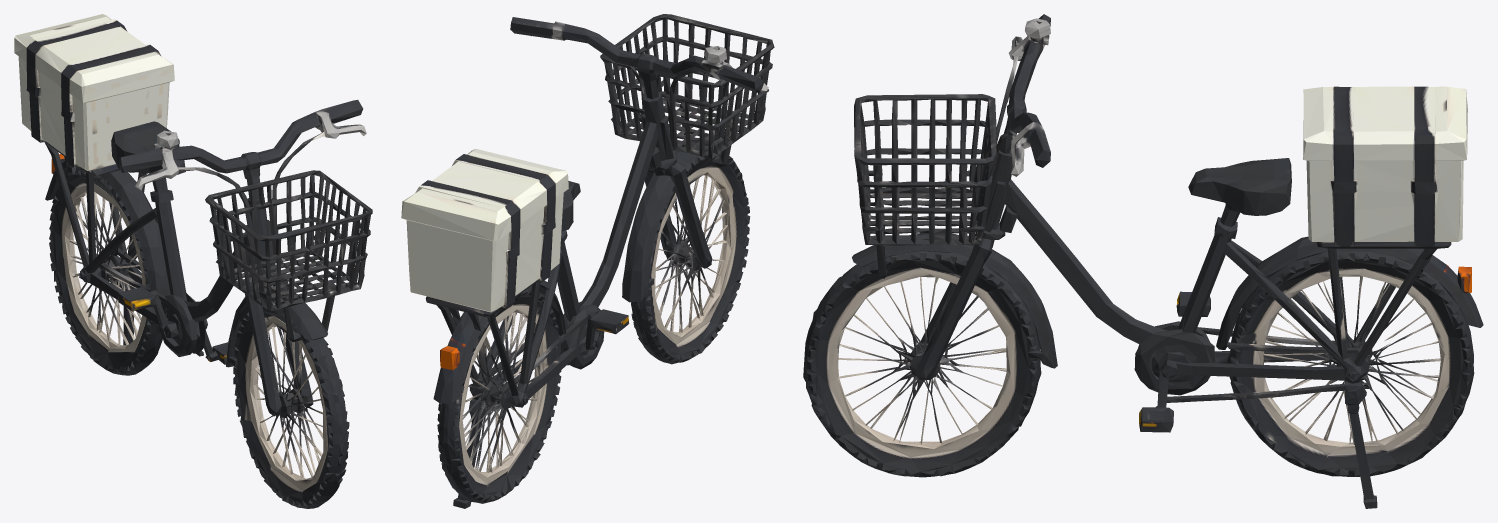
Rendered from delivery_bicycle.glb.
3 views of the same model, side by side, from view 1: azimuth 30°, elevation 25°; view 2: azimuth 150°, elevation 25°; view 3: azimuth 270°, elevation 25° (orthographic). The views are drawn at different scales.
Visible parts, largest first — view 1: delivery_bicycle; view 2: delivery_bicycle; view 3: delivery_bicycle.
Boxes of the visible parts, x1,y1,x2,y2 form: delivery_bicycle: (14,14,372,508); delivery_bicycle: (401,14,774,508); delivery_bicycle: (803,14,1483,508).
Size of the model in its own units: 0.7674 by 1.1 by 1.59.
Materials: 1 (1 with a texture image).
